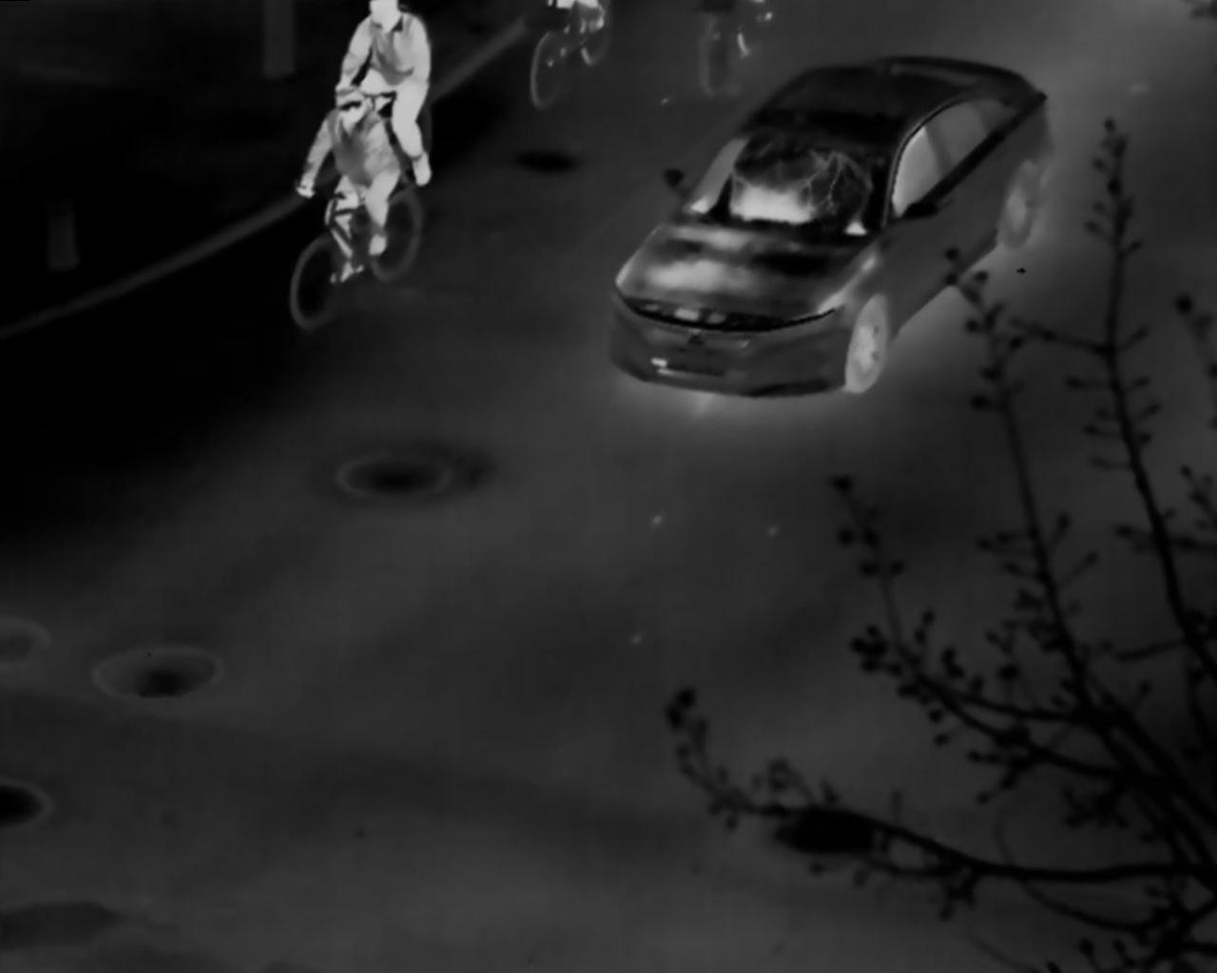person: (294, 83, 401, 286)
